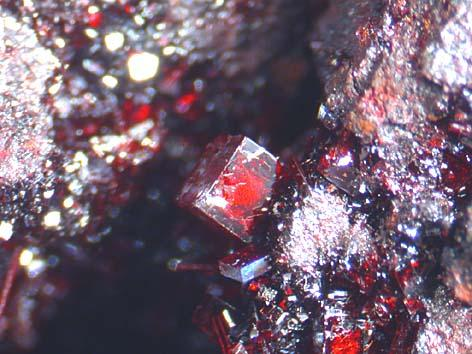cuprite: (178, 0, 472, 354)
